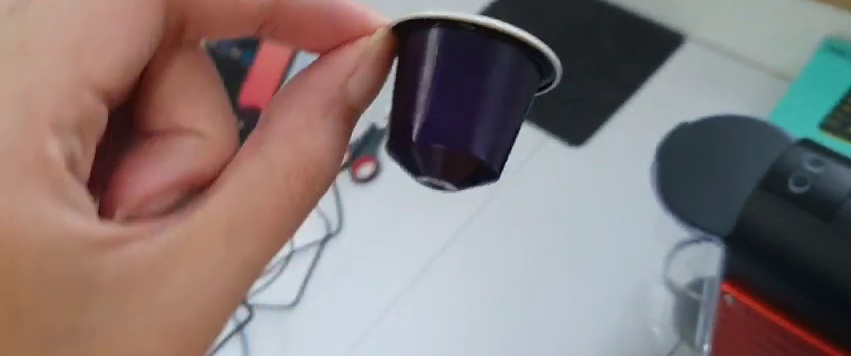capsule_2: (381, 10, 565, 195)
